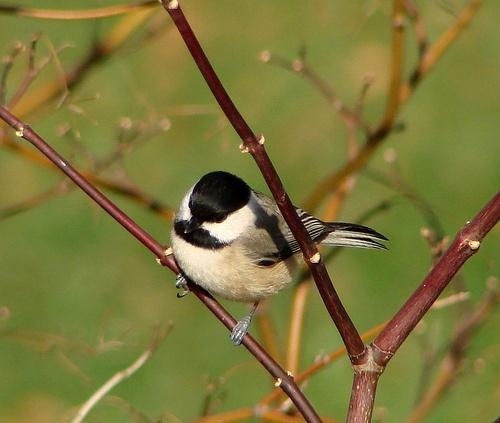bird: (170, 170, 387, 343)
